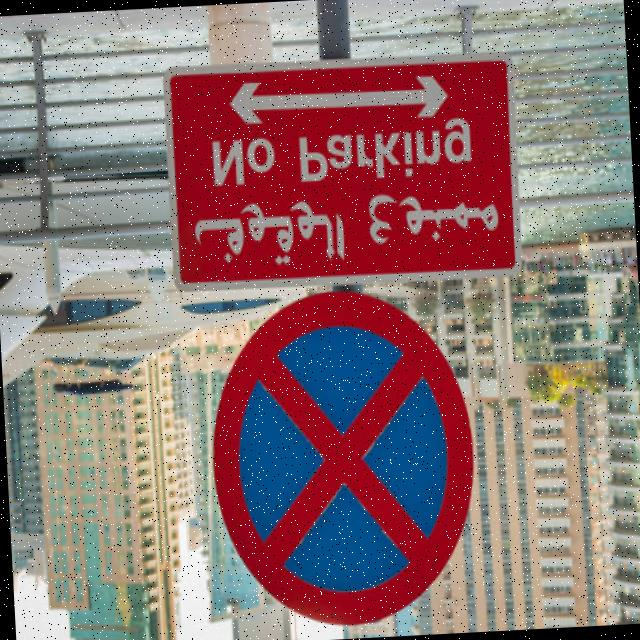no_parking: (204, 298, 483, 628)
